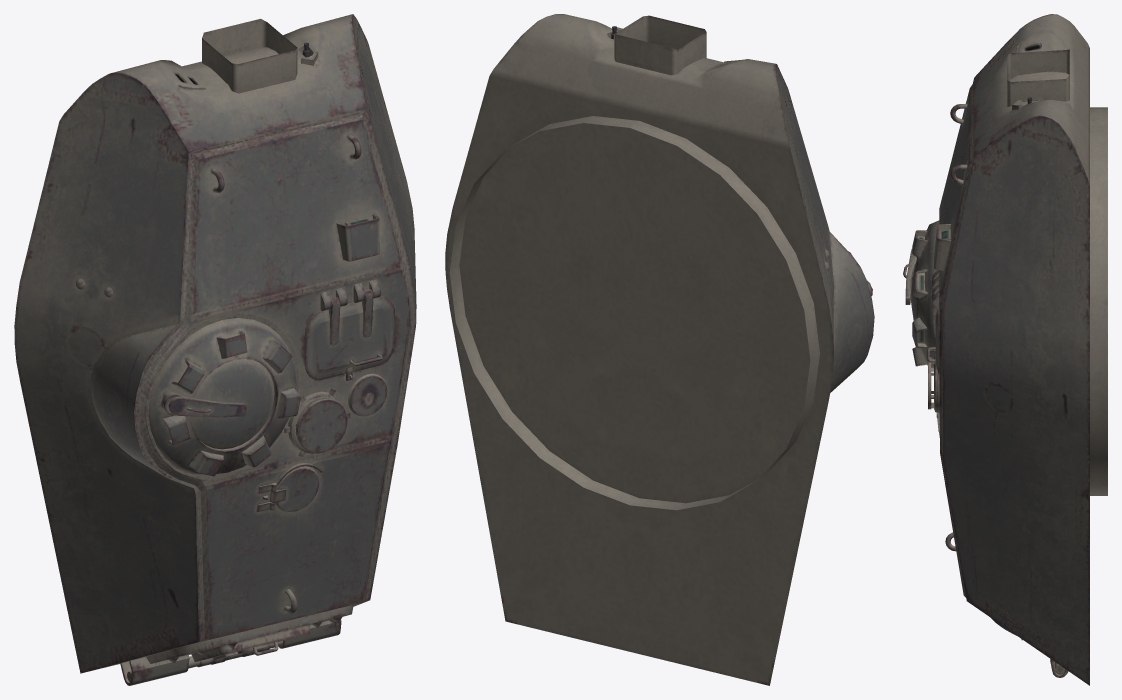
The model's file is Turret_01.glb.
3 renders of one model, left to right at view 1: azimuth 30°, elevation 25°; view 2: azimuth 150°, elevation 25°; view 3: azimuth 270°, elevation 25°, orthographic. The views are drawn at different scales.
Visible parts, largest first — view 1: set_0_group_0; view 2: set_0_group_0; view 3: set_0_group_0.
Boxes of the visible parts, x1,y1,x2,y2 form: set_0_group_0: [14, 14, 416, 685]; set_0_group_0: [445, 14, 874, 685]; set_0_group_0: [903, 14, 1107, 685].
Bounding box in the file's own units: 2.49 × 3.74 × 1.21.
1 material, 1 textured.
